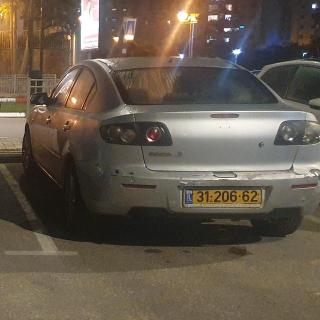LicensePlate: (194, 189, 261, 203)
